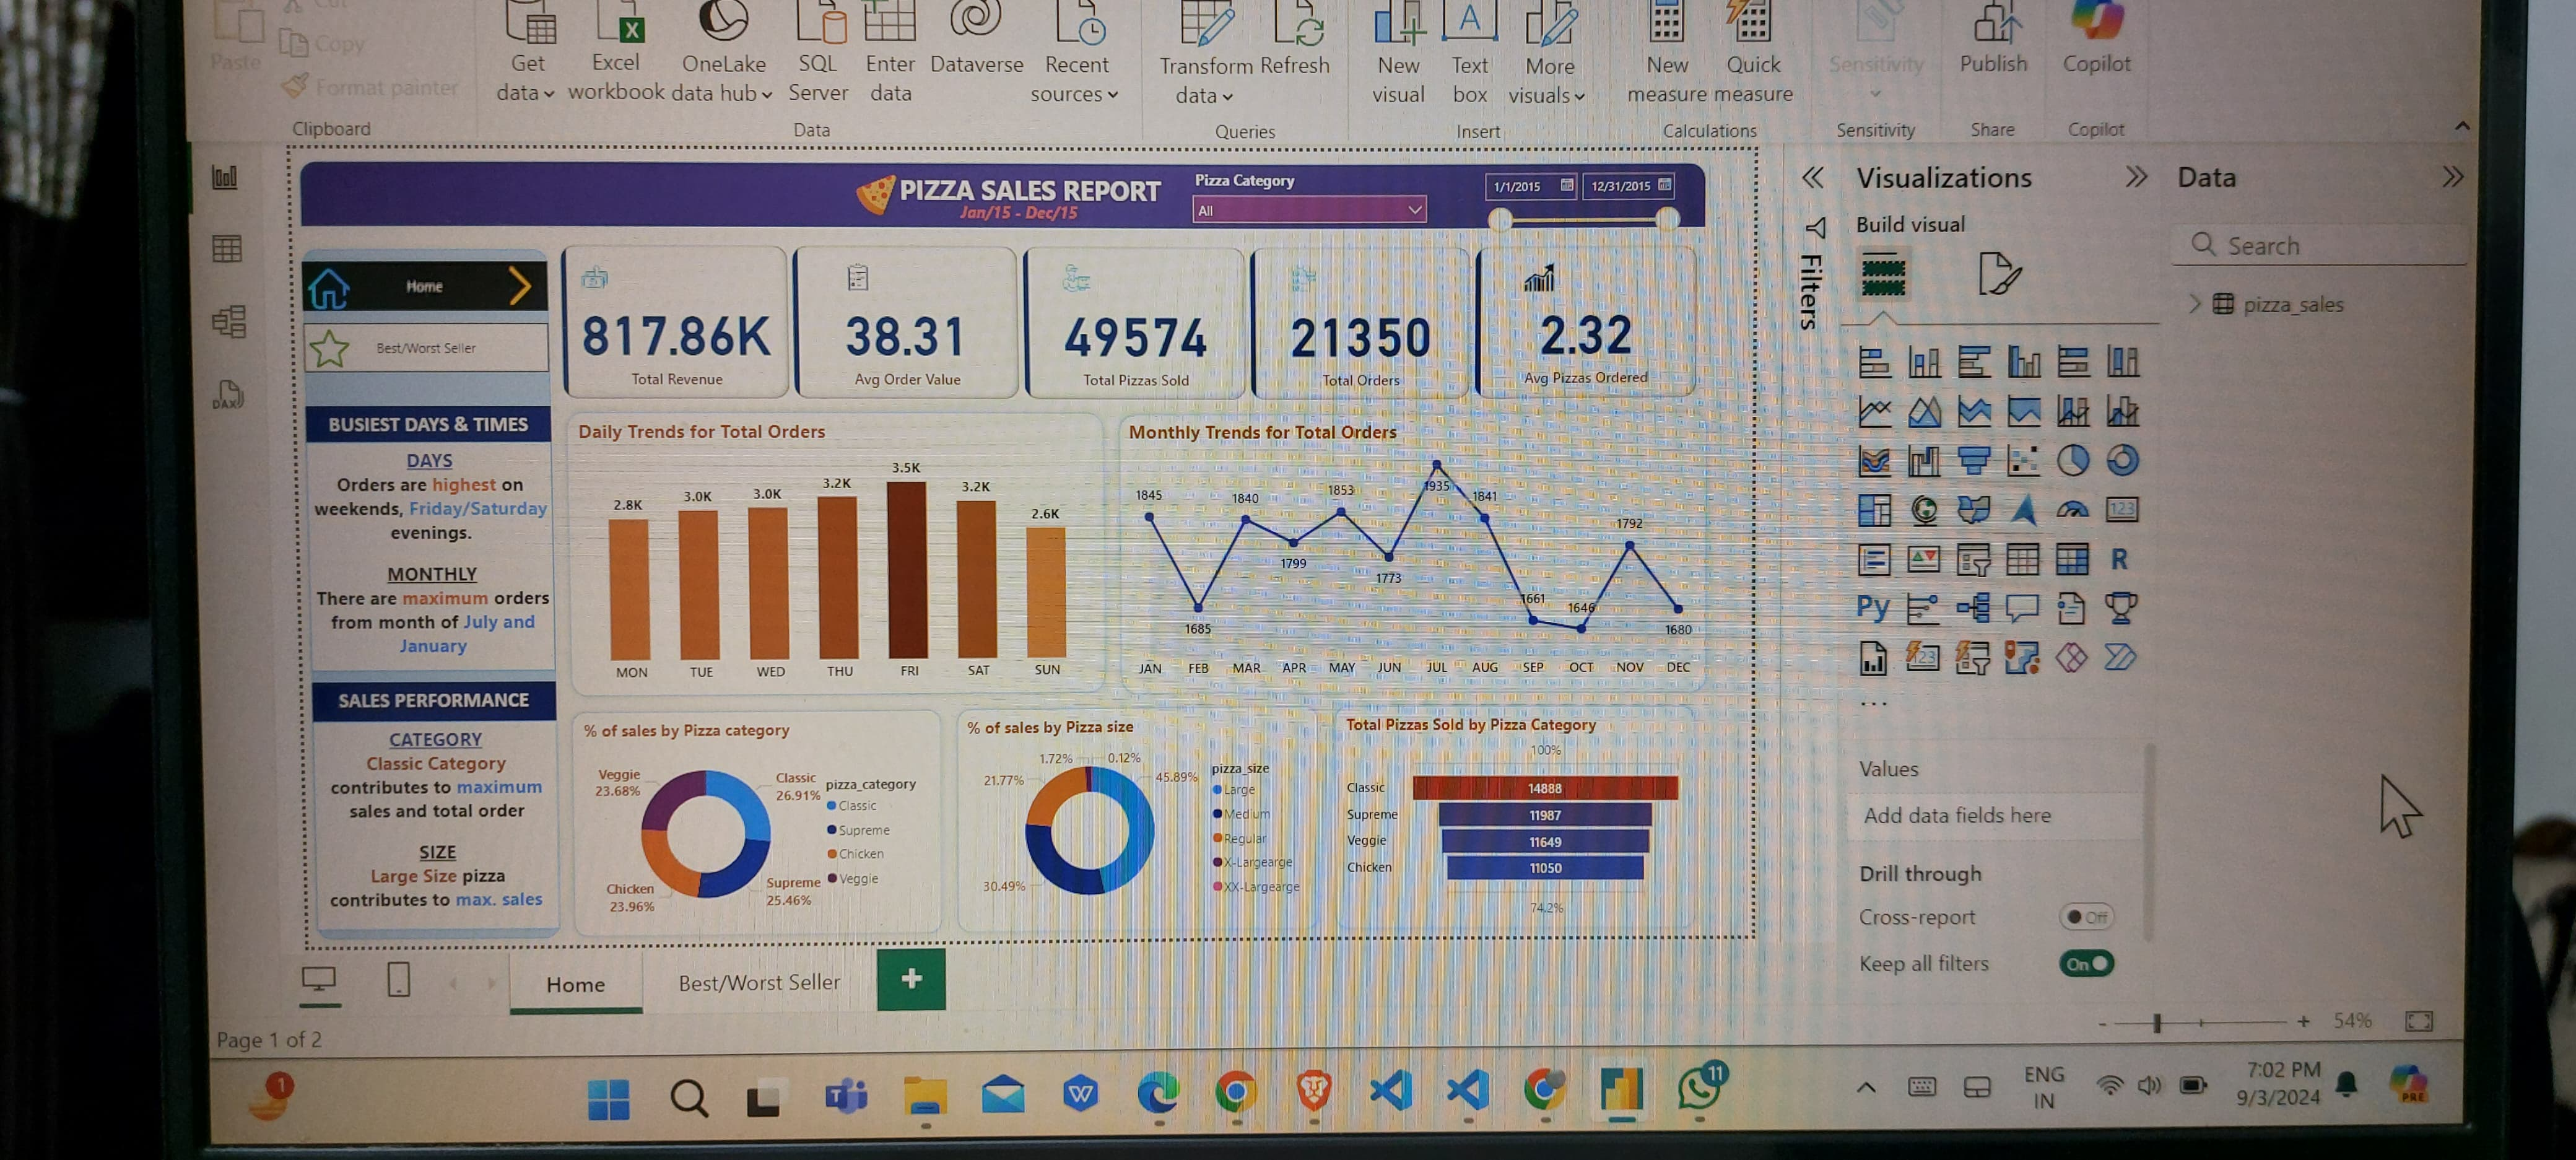

The page's visual inventory and layout, read from the dashboard file:
{"tool":"powerbi","page":{"name":"Home","canvas":[1500,820],"ordinal":0},"visuals":[{"type":"shape","box":[1.1,93.3,264.4,726.7],"z":0},{"type":"cardVisual","fields":{"Data":["pizza_sales.Total Revenue","pizza_sales.Avg Order Value","pizza_sales.Total Pizzas Sold","pizza_sales.Total Orders","pizza_sales.Avg Pizzas Ordered"]},"box":[265.7,92.9,1182.9,167.1],"z":1000},{"type":"shape","box":[8.6,12.9,1440,65.7],"z":2000},{"type":"textbox","box":[591.4,15.7,317.1,58.6],"z":3000},{"type":"textbox","box":[673.3,45.6,142.2,33.3],"z":4000},{"type":"image","box":[565.7,18.6,52.9,54.3],"z":5000},{"type":"shape","box":[265.7,260,564.3,310],"z":6000},{"type":"columnChart","title":"Daily Trends for Total Orders","fields":{"Category":["pizza_sales.Order Day"],"Y":["pizza_sales.Total Orders"]},"box":[280,274.3,535.7,281.4],"z":7000},{"type":"shape","box":[830,261.4,631.4,310],"z":8000},{"type":"areaChart","title":"Monthly Trends for Total Orders","fields":{"Category":["pizza_sales.Order Month"],"Y":["pizza_sales.Total Orders"]},"box":[842.9,274.3,605.7,281.4],"z":9000},{"type":"shape","box":[265.7,570,394.3,250],"z":10000},{"type":"shape","box":[660,570,392.9,250],"z":11000},{"type":"shape","box":[1054.3,570,394.3,250],"z":12000},{"type":"donutChart","title":"% of sales by Pizza category","fields":{"Category":["pizza_sales.pizza_category"],"Y":["pizza_sales.Total Revenue"]},"box":[280,587,366,217],"z":13000},{"type":"donutChart","title":"% of sales by Pizza size","fields":{"Y":["pizza_sales.Total Revenue"],"Category":["pizza_sales.pizza_size"]},"box":[673,587,366,218],"z":14000},{"type":"funnel","title":"Total Pizzas Sold by Pizza Category","fields":{"Category":["pizza_sales.pizza_category"],"Y":["pizza_sales.Total Pizzas Sold"]},"box":[1069,587,363,218],"z":15000},{"type":"textbox","box":[8.9,261.1,248.9,37.8],"z":16000},{"type":"textbox","box":[8.6,298.6,248.6,235.7],"z":17000},{"type":"textbox","box":[8.6,545.7,248.6,41.4],"z":18000},{"type":"textbox","box":[8.5,587.3,249.3,216.9],"z":19000},{"type":"slicer","fields":{"Values":["pizza_sales.pizza_category"]},"box":[907.1,12.9,262.9,65.7],"z":20000},{"type":"slicer","fields":{"Values":["pizza_sales.order_date"]},"box":[1208.6,12.9,222.9,80],"z":21000},{"type":"pageNavigator","box":[8.6,177.1,248.6,50],"z":22000},{"type":"pageNavigator","box":[8.6,114.3,248.6,50],"z":23000},{"type":"image","box":[202.9,114.3,54.3,50],"z":24000},{"type":"image","box":[8.6,114.3,52.9,55.7],"z":25000},{"type":"image","box":[8.6,177.1,51.4,51.4],"z":26000}]}

Visuals, with their boxes on the page's 1500x820 design canvas (x1, y1, x2, y2). These are canvas units, not pixel positions in the 2576x1160 screenshot, which may show the page scaled, cropped or inside an application window:
shape: <bbox>1, 93, 266, 820</bbox>
cardVisual - pizza_sales.Total Revenue x pizza_sales.Avg Order Value: <bbox>266, 93, 1449, 260</bbox>
shape: <bbox>9, 13, 1449, 79</bbox>
textbox: <bbox>591, 16, 908, 74</bbox>
textbox: <bbox>673, 46, 816, 79</bbox>
image: <bbox>566, 19, 619, 73</bbox>
shape: <bbox>266, 260, 830, 570</bbox>
"Daily Trends for Total Orders" columnChart: <bbox>280, 274, 816, 556</bbox>
shape: <bbox>830, 261, 1461, 571</bbox>
"Monthly Trends for Total Orders" areaChart: <bbox>843, 274, 1449, 556</bbox>
shape: <bbox>266, 570, 660, 820</bbox>
shape: <bbox>660, 570, 1053, 820</bbox>
shape: <bbox>1054, 570, 1449, 820</bbox>
"% of sales by Pizza category" donutChart: <bbox>280, 587, 646, 804</bbox>
"% of sales by Pizza size" donutChart: <bbox>673, 587, 1039, 805</bbox>
"Total Pizzas Sold by Pizza Category" funnel: <bbox>1069, 587, 1432, 805</bbox>
textbox: <bbox>9, 261, 258, 299</bbox>
textbox: <bbox>9, 299, 257, 534</bbox>
textbox: <bbox>9, 546, 257, 587</bbox>
textbox: <bbox>8, 587, 258, 804</bbox>
slicer - pizza_sales.pizza_category: <bbox>907, 13, 1170, 79</bbox>
slicer - pizza_sales.order_date: <bbox>1209, 13, 1432, 93</bbox>
pageNavigator: <bbox>9, 177, 257, 227</bbox>
pageNavigator: <bbox>9, 114, 257, 164</bbox>
image: <bbox>203, 114, 257, 164</bbox>
image: <bbox>9, 114, 62, 170</bbox>
image: <bbox>9, 177, 60, 228</bbox>
